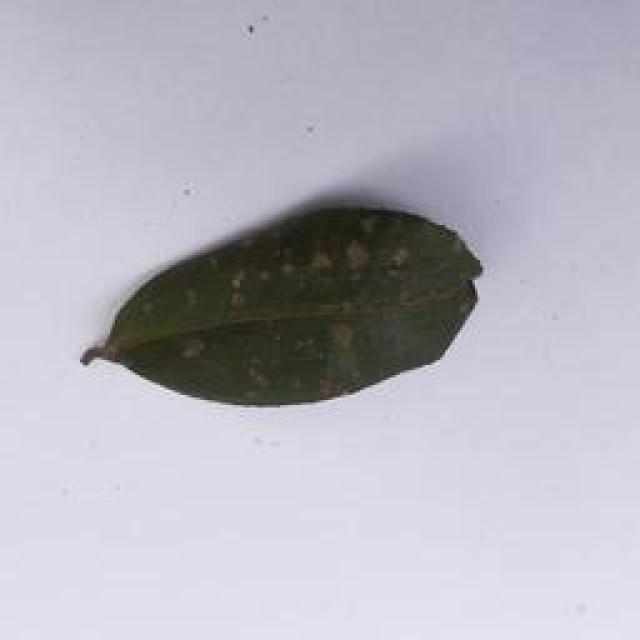Algal Leaf Spot: (79, 198, 483, 420)
